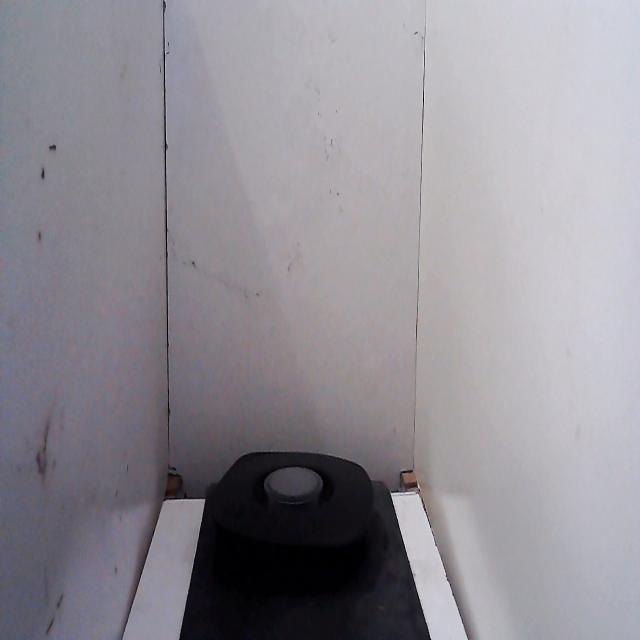plastico: (198, 430, 394, 600)
